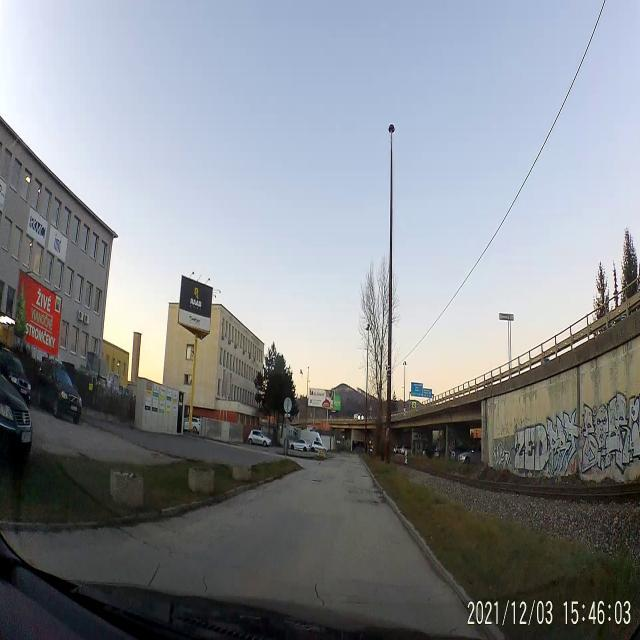Pothole: (306, 473, 326, 489)
